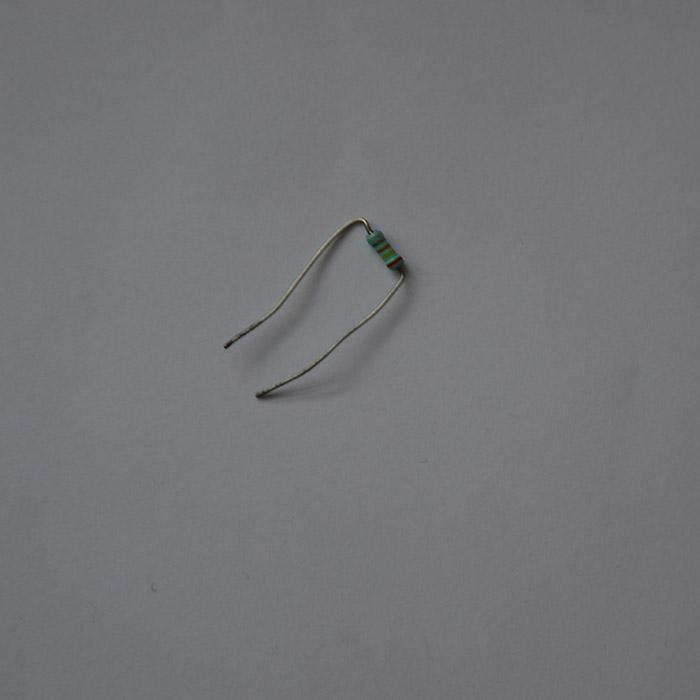resistor: (364, 225, 411, 282)
